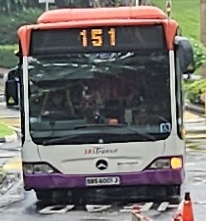bus: (75, 26, 119, 48)
